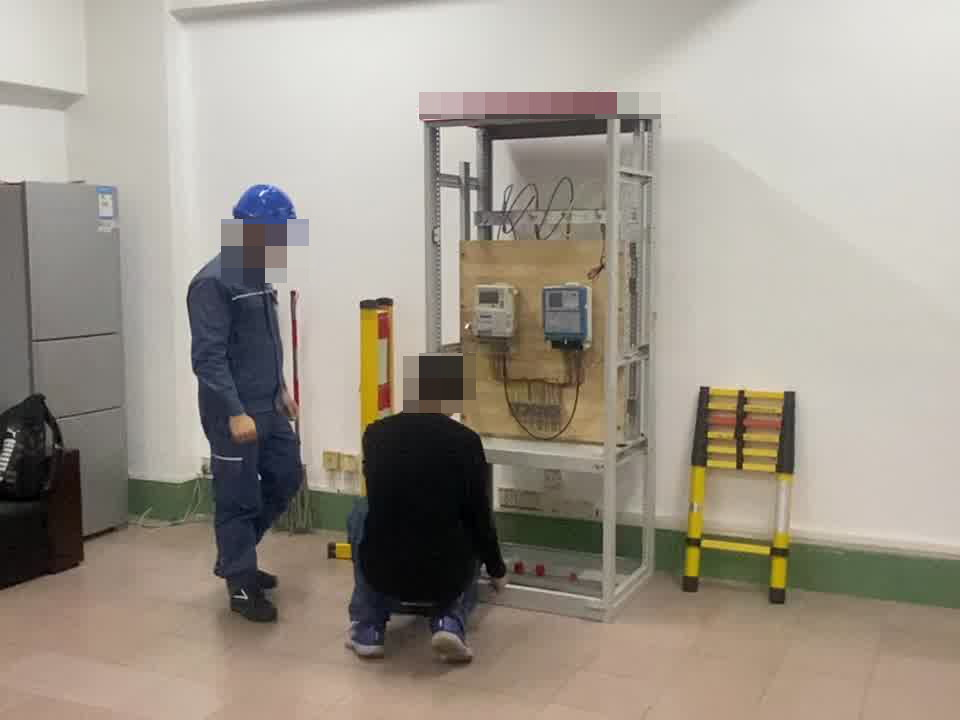downsuit: (203, 416, 306, 585)
halt: (229, 183, 301, 262)
hand: (228, 409, 259, 443)
inear: (233, 216, 268, 255)
person: (186, 181, 308, 621), (346, 350, 513, 667)
unhalt: (408, 352, 471, 413)
upcloth: (361, 410, 508, 602)
upsuit: (188, 252, 287, 403)
